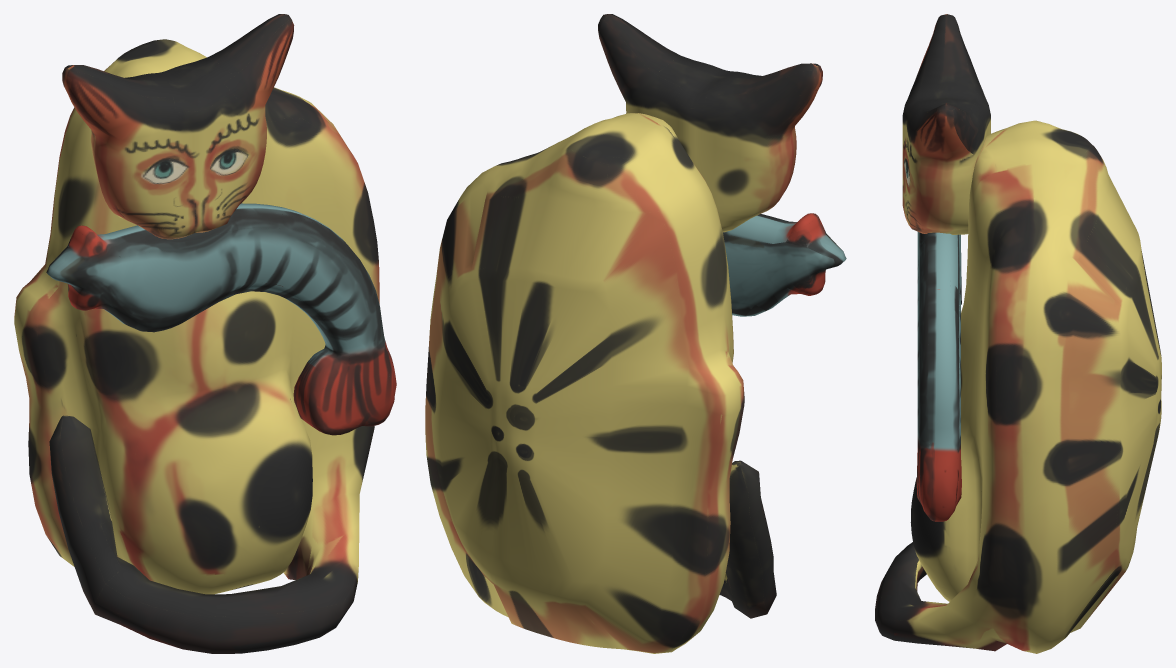
Rendered from cat_prawn.glb.
The picture shows the model from 3 angles, left to right: view 1: azimuth 30°, elevation 25°; view 2: azimuth 150°, elevation 25°; view 3: azimuth 270°, elevation 25°; orthographic projection. The views are drawn at different scales.
Visible parts, largest first — view 1: Cube; view 2: Cube; view 3: Cube.
Boxes of the visible parts, <box> form: Cube: <box>14,14,396,653</box>; Cube: <box>425,14,846,653</box>; Cube: <box>875,14,1161,653</box>.
Size of the model in its own units: 1.02 by 1.57 by 0.7746.
2 materials, 2 textured.
